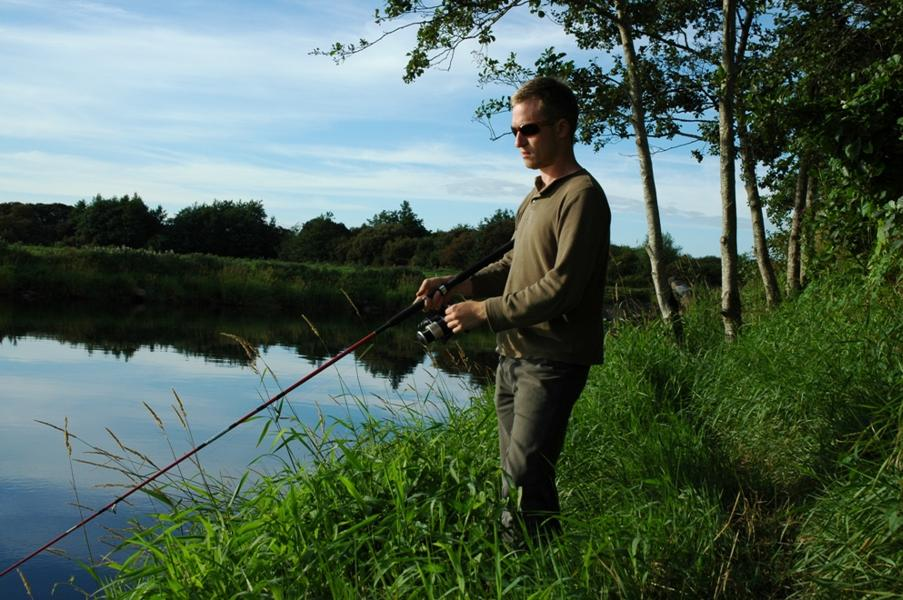person: (415, 80, 613, 547)
